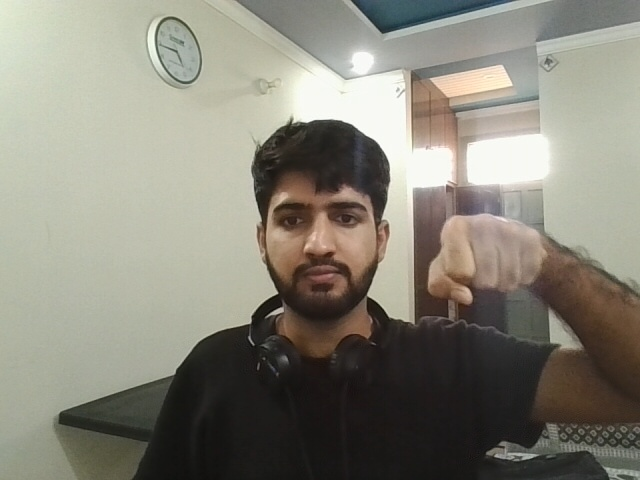Yes: (418, 200, 547, 318)
